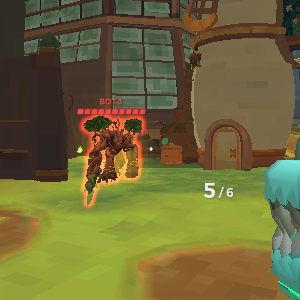model: (79, 114, 147, 192)
